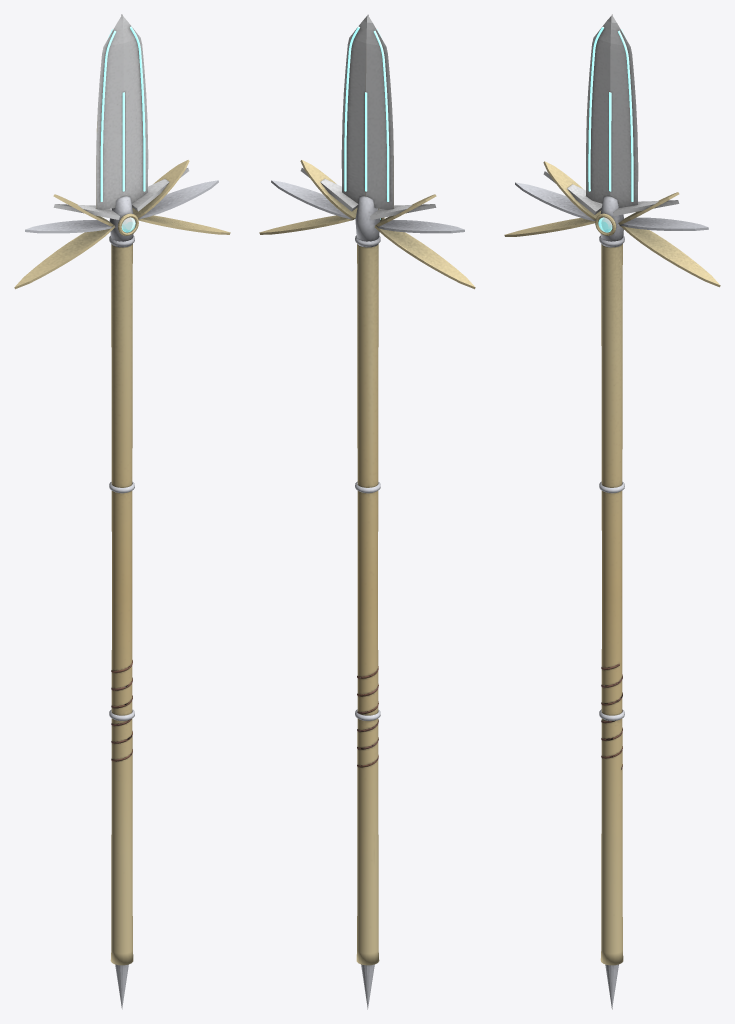
The model's file is arma_lend_lanca_sagrado.glb.
3 views of the same model, side by side, from view 1: azimuth 30°, elevation 25°; view 2: azimuth 150°, elevation 25°; view 3: azimuth 330°, elevation 25° (orthographic).
Parts seen in each view (by area): view 1: arma_lend_lanca_sagrado, ponta_gume-1; view 2: arma_lend_lanca_sagrado, ponta_gume-1b; view 3: arma_lend_lanca_sagrado, ponta_gume1.
Boxes of the visible parts, bbox=[...] form: arma_lend_lanca_sagrado: bbox=[14, 14, 230, 1009]; ponta_gume-1: bbox=[100, 30, 116, 201]; arma_lend_lanca_sagrado: bbox=[259, 14, 475, 1009]; ponta_gume-1b: bbox=[373, 30, 389, 201]; arma_lend_lanca_sagrado: bbox=[504, 14, 720, 1009]; ponta_gume1: bbox=[618, 30, 633, 201].
Bounding box in the file's own units: 0.5963 × 2.62 × 0.0707.
8 materials, 1 textured.
